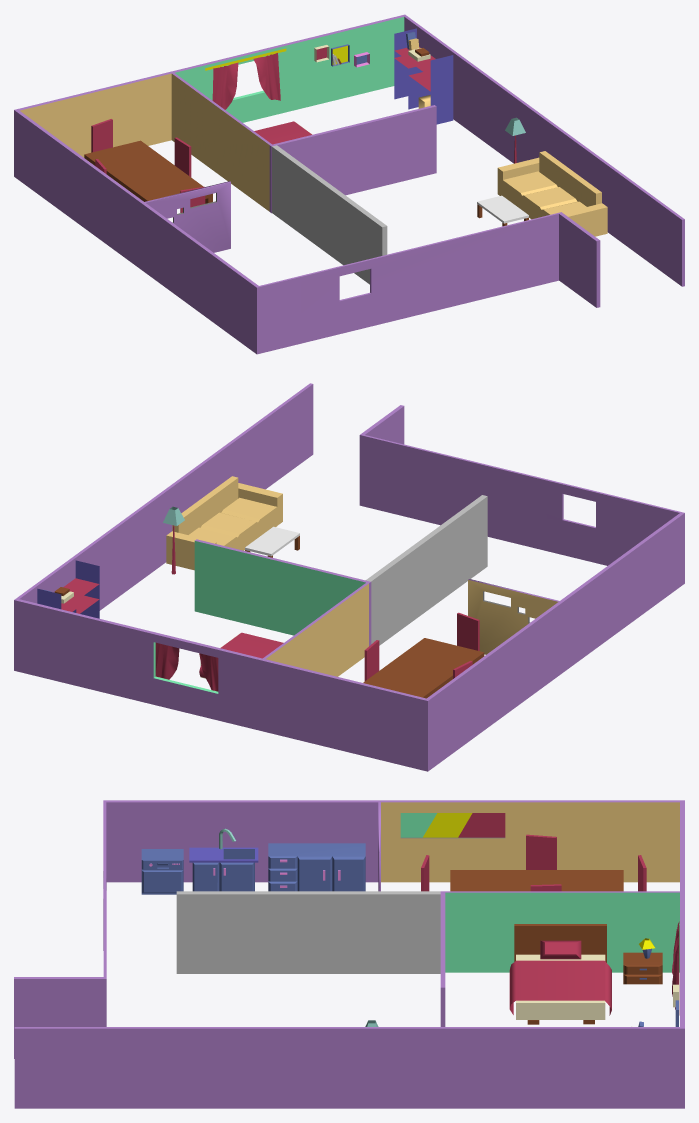
Rendered from house5.obj.
The picture shows the model from 3 angles, top to bottom: view 1: azimuth 30°, elevation 25°; view 2: azimuth 150°, elevation 25°; view 3: azimuth 270°, elevation 25°; orthographic projection. The views are drawn at different scales.
Parts seen in each view (by area): view 1: house2, Cube_Cube.002; view 2: house2, Cube_Cube.002; view 3: house2, Cube_Cube.002.
Boxes of the visible parts, x1,y1,x2,y2 form: house2: (14,14,684,354); Cube_Cube.002: (272,145,387,284); house2: (14,383,684,771); Cube_Cube.002: (365,495,487,645); house2: (14,800,684,1108); Cube_Cube.002: (176,891,440,973).
Bounding box in the file's own units: 153 × 25.02 × 189.
